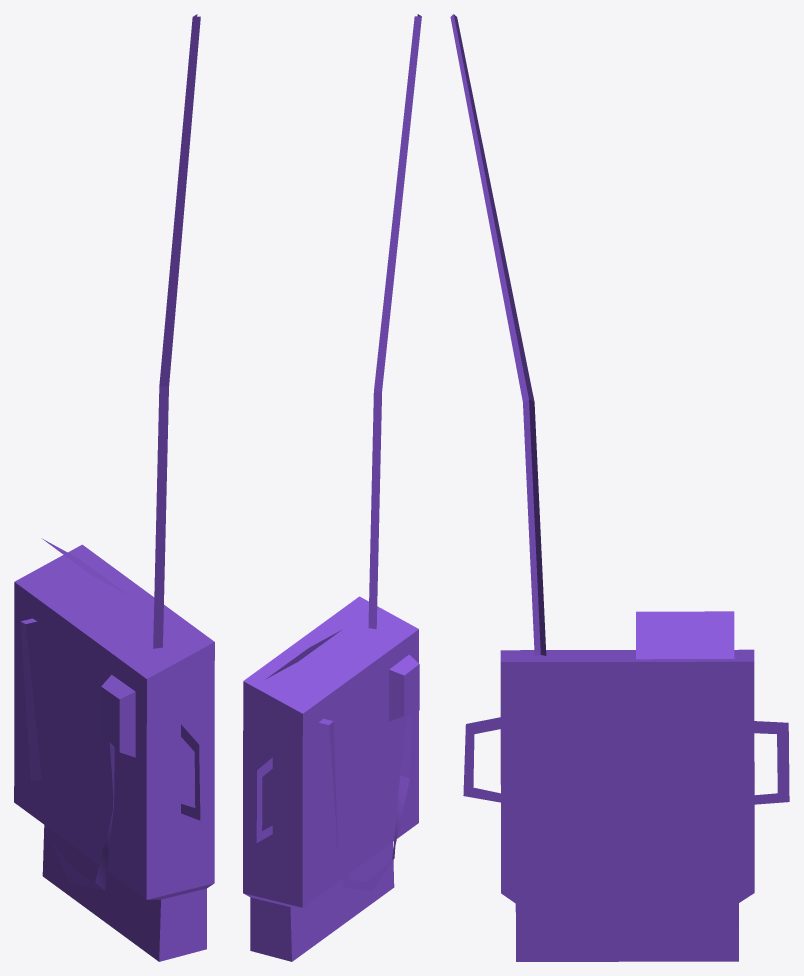
File: radioset_backpack.obj
The picture shows the model from 3 angles, left to right: view 1: azimuth 30°, elevation 25°; view 2: azimuth 150°, elevation 25°; view 3: azimuth 270°, elevation 25°; orthographic projection. The views are drawn at different scales.
Visible parts, largest first — view 1: Box03; view 2: Box03; view 3: Box03.
Boxes of the visible parts, box(x1,y1,x2,y2) form: Box03: box(14, 14, 214, 961); Box03: box(243, 14, 421, 961); Box03: box(450, 14, 789, 961).
Size of the model in its own units: 10.7 by 120 by 39.79.
